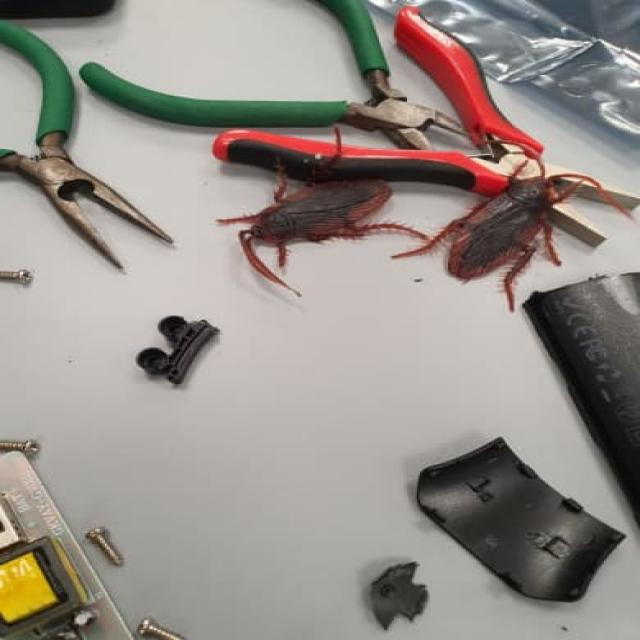Cockroach: (405, 142, 609, 312), (210, 123, 432, 273)
